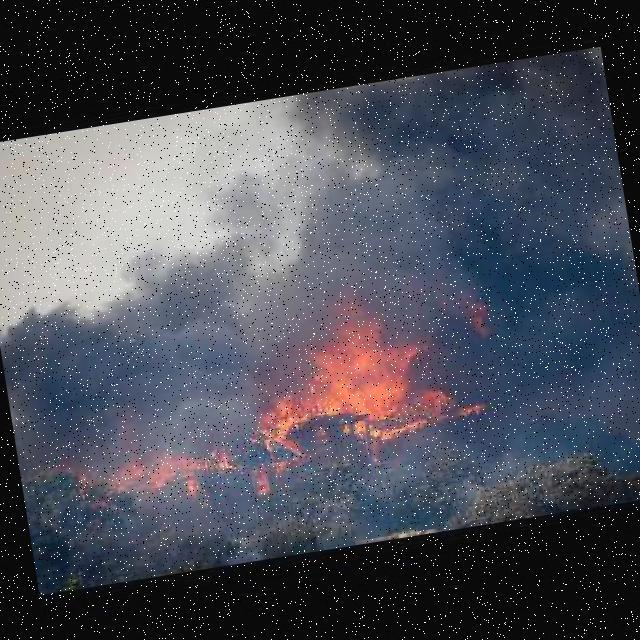Fire: (231, 262, 519, 466), (86, 430, 238, 500)
Smoke: (273, 49, 640, 359), (0, 181, 319, 443)
